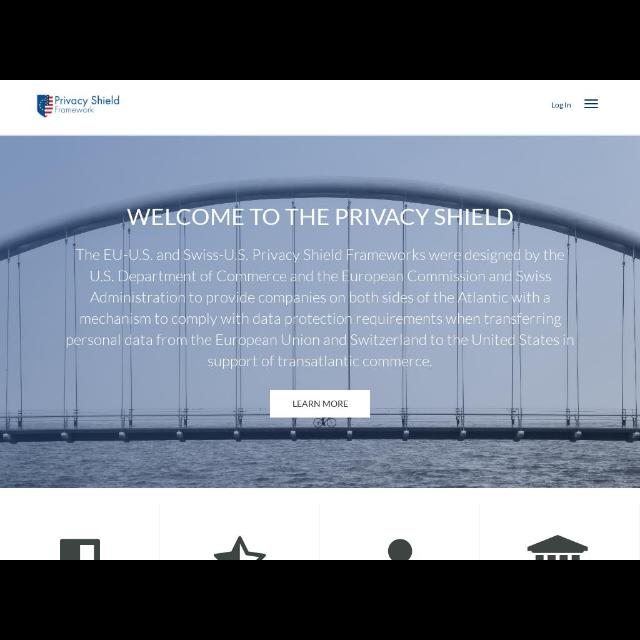backgroundimage: (1, 136, 639, 488)
icon: (526, 536, 588, 560), (216, 537, 264, 559), (61, 539, 101, 559), (388, 539, 412, 559), (584, 98, 598, 112)
image: (38, 92, 120, 118)
text: (66, 250, 574, 366), (125, 208, 512, 226), (294, 399, 348, 411), (552, 102, 572, 110)
textbutton: (272, 391, 371, 417)
toolbar: (1, 80, 639, 136)
